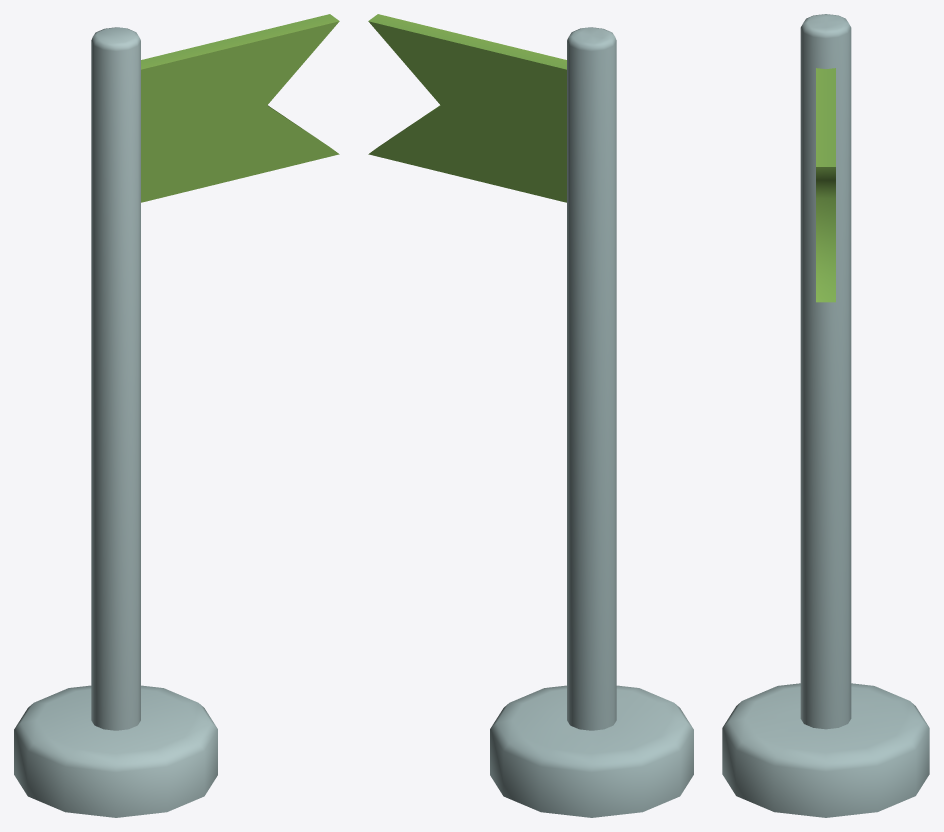
File: checkpoint.fbx
3 renders of one model, left to right at view 1: azimuth 30°, elevation 25°; view 2: azimuth 150°, elevation 25°; view 3: azimuth 270°, elevation 25°, orthographic.
Visible parts, largest first — view 1: checkpoint; view 2: checkpoint; view 3: checkpoint.
Part boxes in pixels (left/top/right/bottom): checkpoint: left=14, top=14, right=339, bottom=817; checkpoint: left=368, top=14, right=693, bottom=817; checkpoint: left=722, top=14, right=929, bottom=817.
Bounding box in the file's own units: 1.63 × 3.74 × 0.9349.
Materials: 2 (2 with a texture image).
